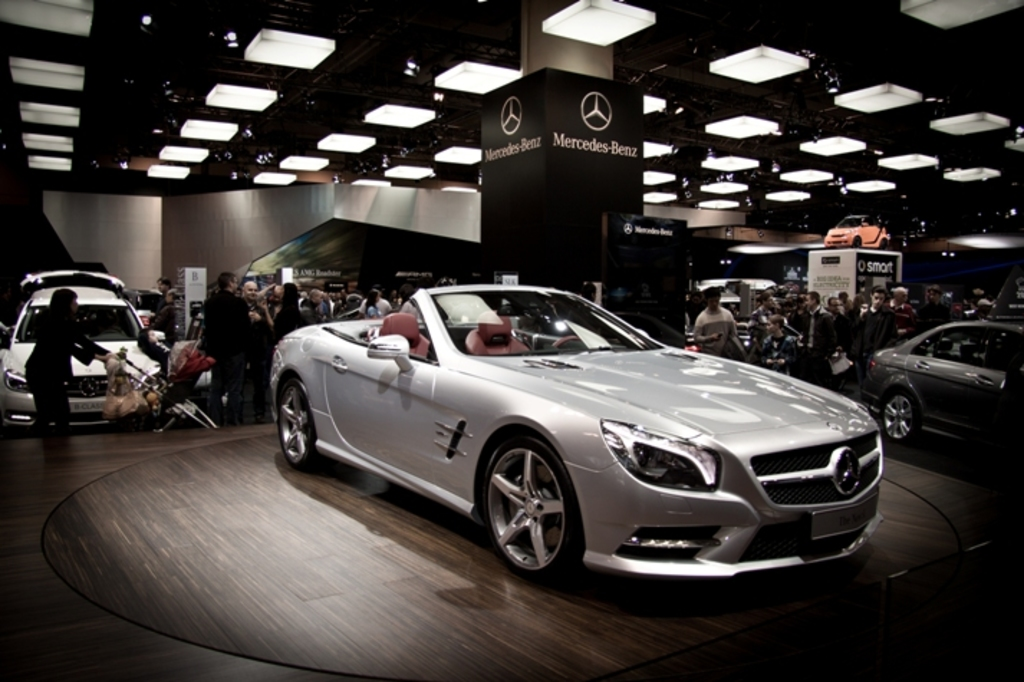Car: (257, 281, 887, 587), (0, 265, 180, 433), (858, 313, 1022, 469)
